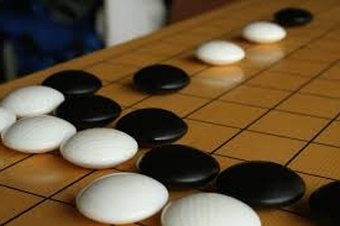black: (218, 160, 308, 209), (115, 107, 189, 146), (55, 93, 123, 128), (131, 63, 191, 96), (273, 6, 314, 28)
crossing: (231, 121, 258, 139), (300, 132, 322, 153), (36, 190, 60, 206), (287, 84, 307, 100)
white: (74, 173, 171, 225), (59, 126, 139, 171), (1, 84, 67, 118), (193, 38, 247, 68), (239, 19, 289, 45)
